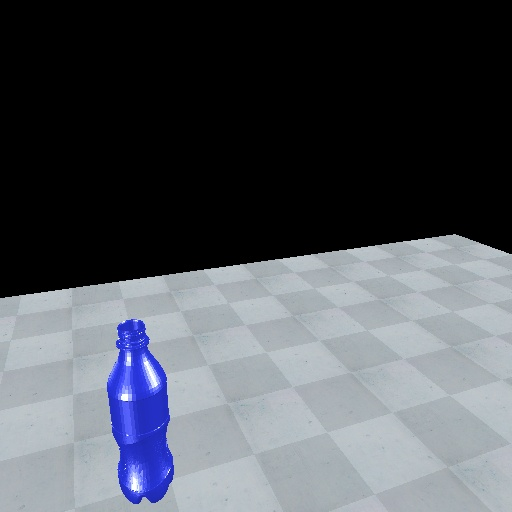bottle: (103, 317, 178, 506)
